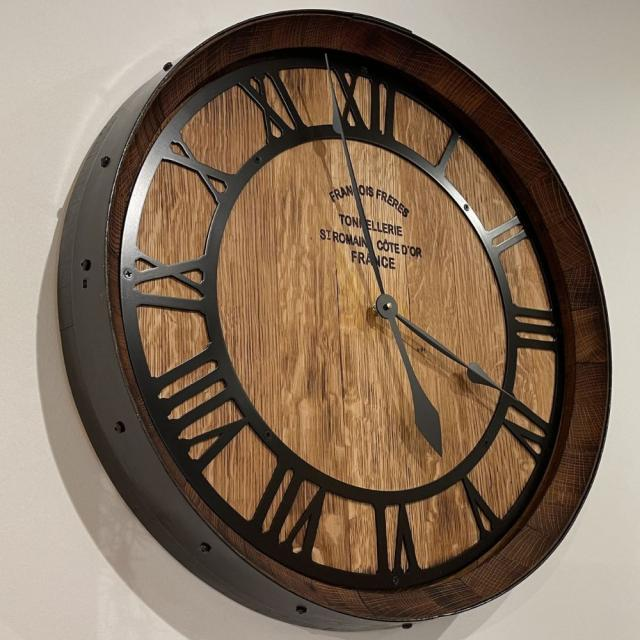clock: (55, 0, 640, 640)
